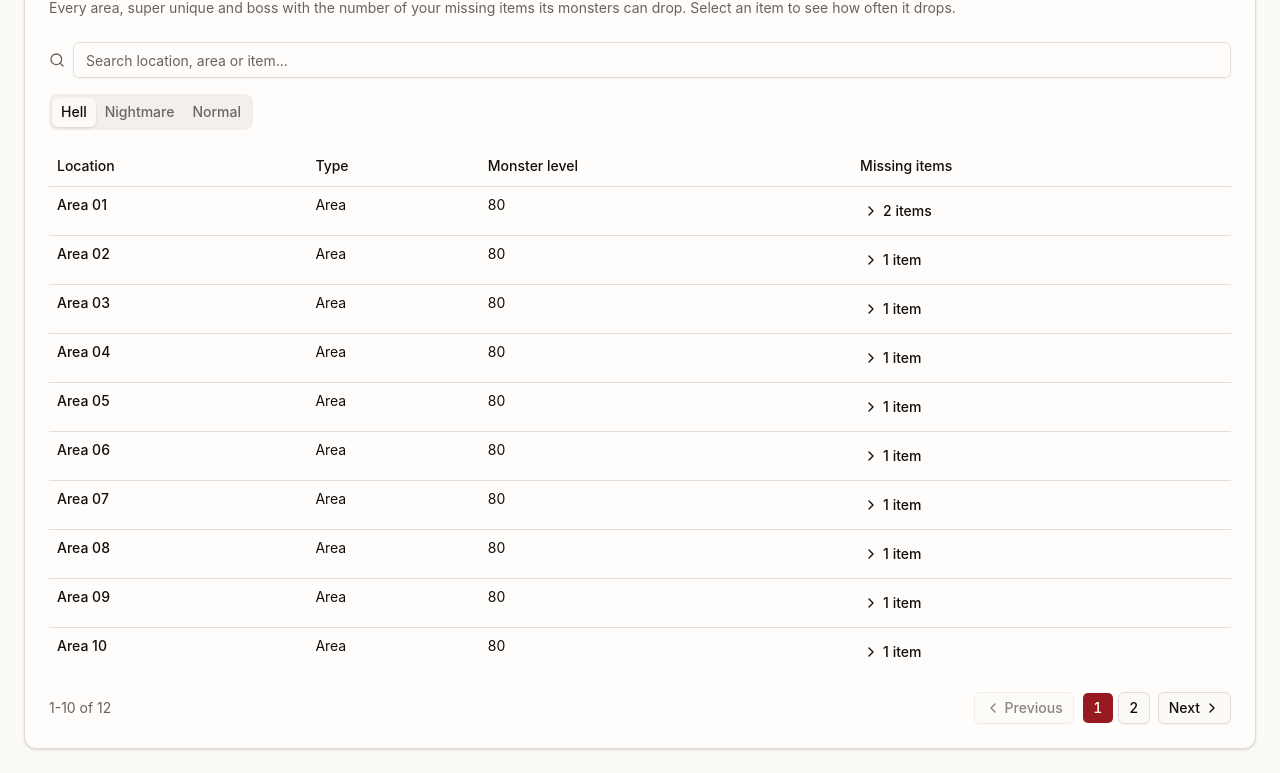
Scenario: When the farming advisor page is shown › If more locations drop missing items than fit a page, Then they are paged
(page scrolled)
Expected: the text "Area 01" is shown, x1=57 y1=196 x2=107 y2=212
Click the button "Next" at x=1194, y=708, box x1=1158 y1=692 x2=1231 y2=724
(page scrolled)
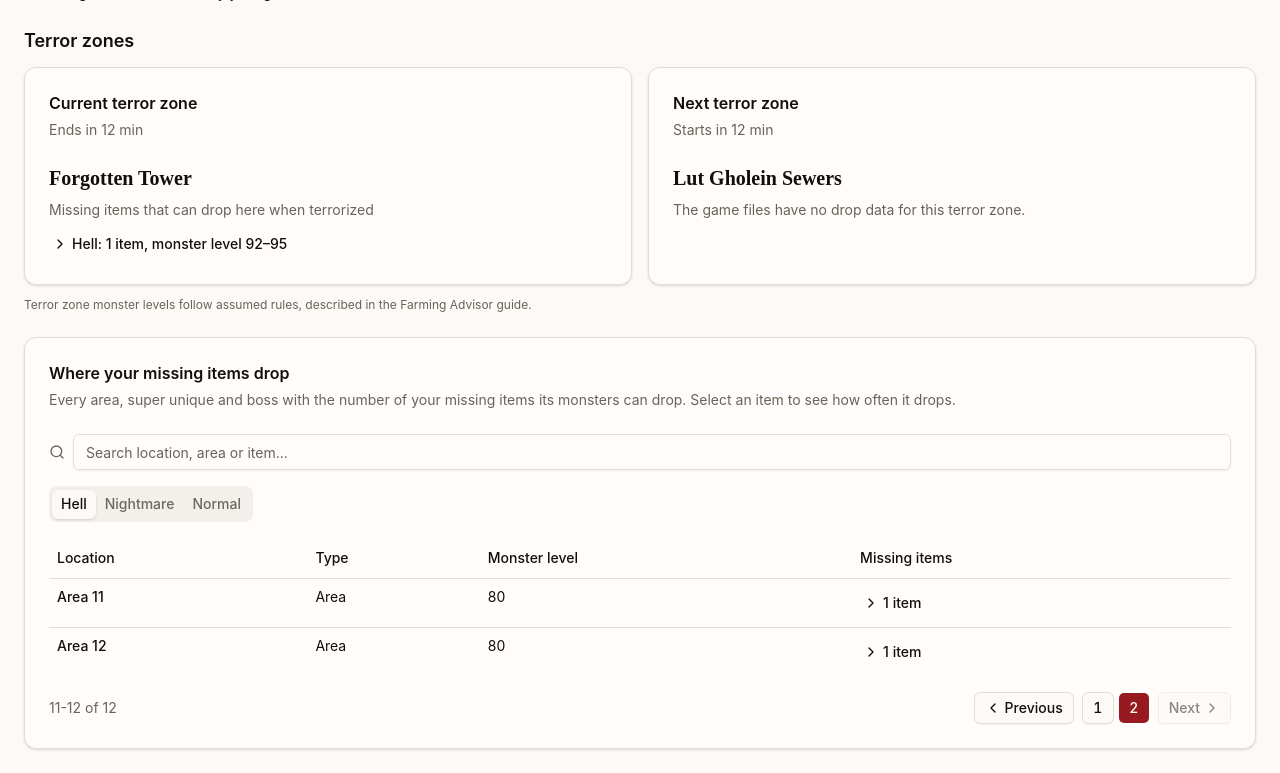
Now the text "Area 12" is shown, box x1=57 y1=636 x2=107 y2=654
Now the text "Area 01" is gone
Now the text "11-12 of 12" is shown, box x1=49 y1=698 x2=117 y2=718
